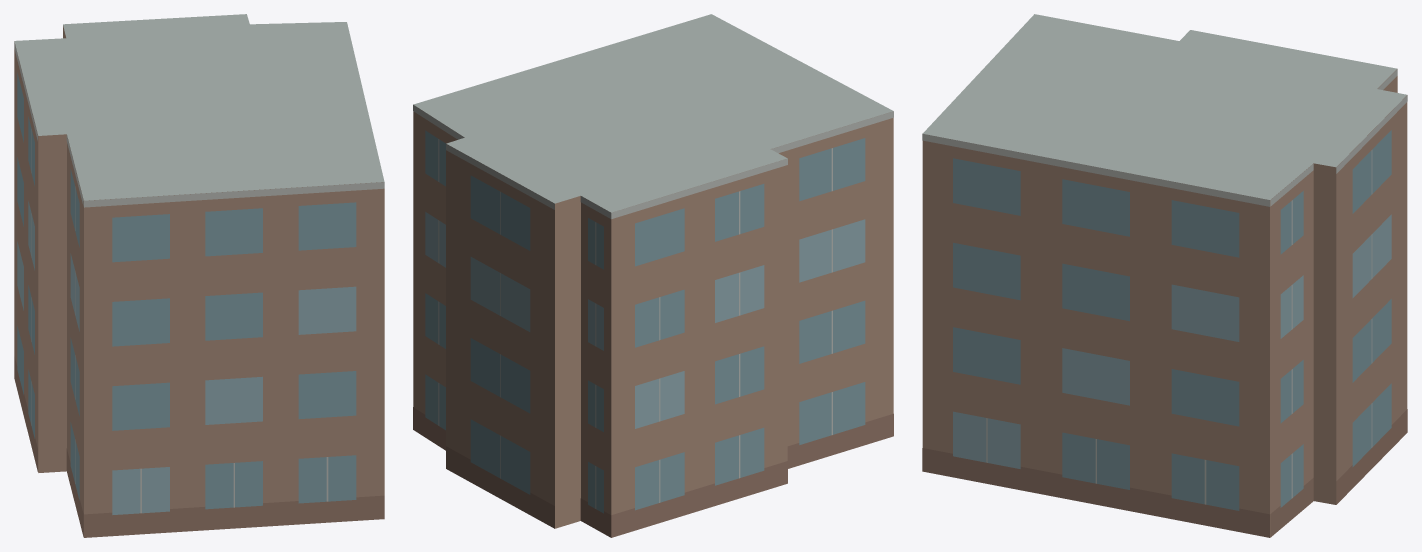
File: survey-upis-32902323.glb
3 renders of one model, left to right at view 1: azimuth 30°, elevation 25°; view 2: azimuth 150°, elevation 25°; view 3: azimuth 270°, elevation 25°, orthographic. The views are drawn at different scales.
Visible parts, largest first — view 1: survey-upis-32902323.tmp; view 2: survey-upis-32902323.tmp; view 3: survey-upis-32902323.tmp.
Boxes of the visible parts, <box> form: survey-upis-32902323.tmp: <box>14,14,384,537</box>; survey-upis-32902323.tmp: <box>413,14,893,537</box>; survey-upis-32902323.tmp: <box>922,14,1407,537</box>.
Bounding box in the file's own units: 14.31 × 12.1 × 15.75.
